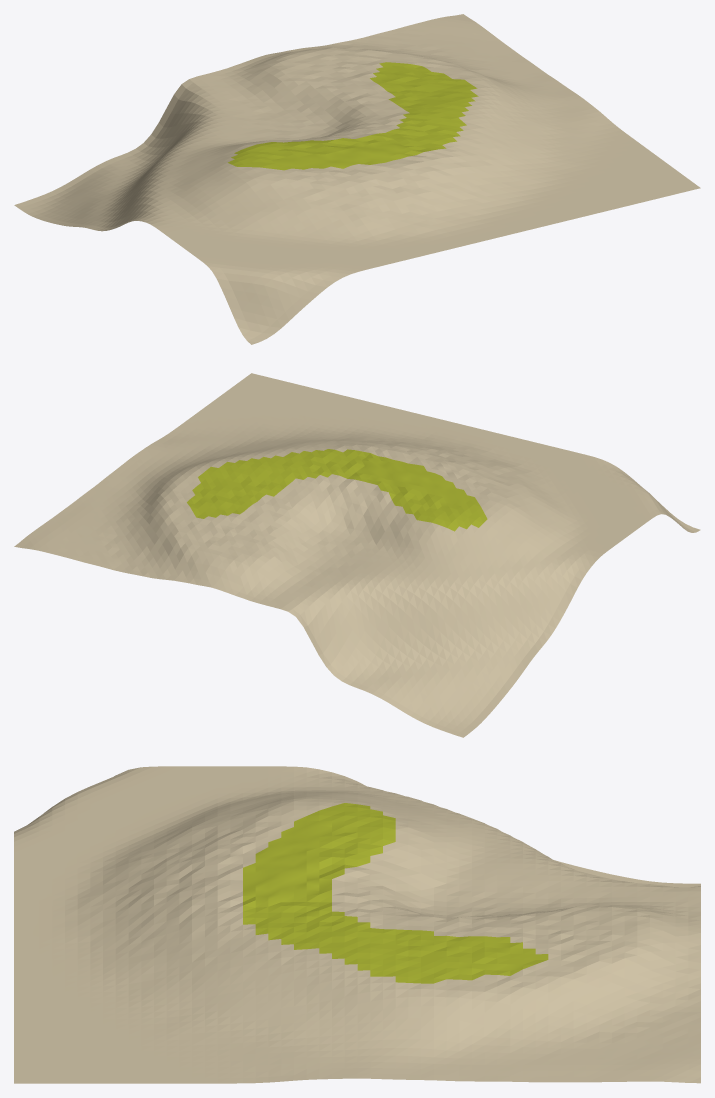
File: tropical_island_2.fbx
3 renders of one model, top to bottom at view 1: azimuth 30°, elevation 25°; view 2: azimuth 150°, elevation 25°; view 3: azimuth 270°, elevation 25°, orthographic. The views are drawn at different scales.
Visible parts, largest first — view 1: Island.002; view 2: Island.002; view 3: Island.002.
Boxes of the visible parts, x1,y1,x2,y2 form: Island.002: (14,14,700,344); Island.002: (14,373,700,737); Island.002: (14,766,700,1083).
Bounding box in the file's own units: 46.09 × 10.66 × 42.19.
